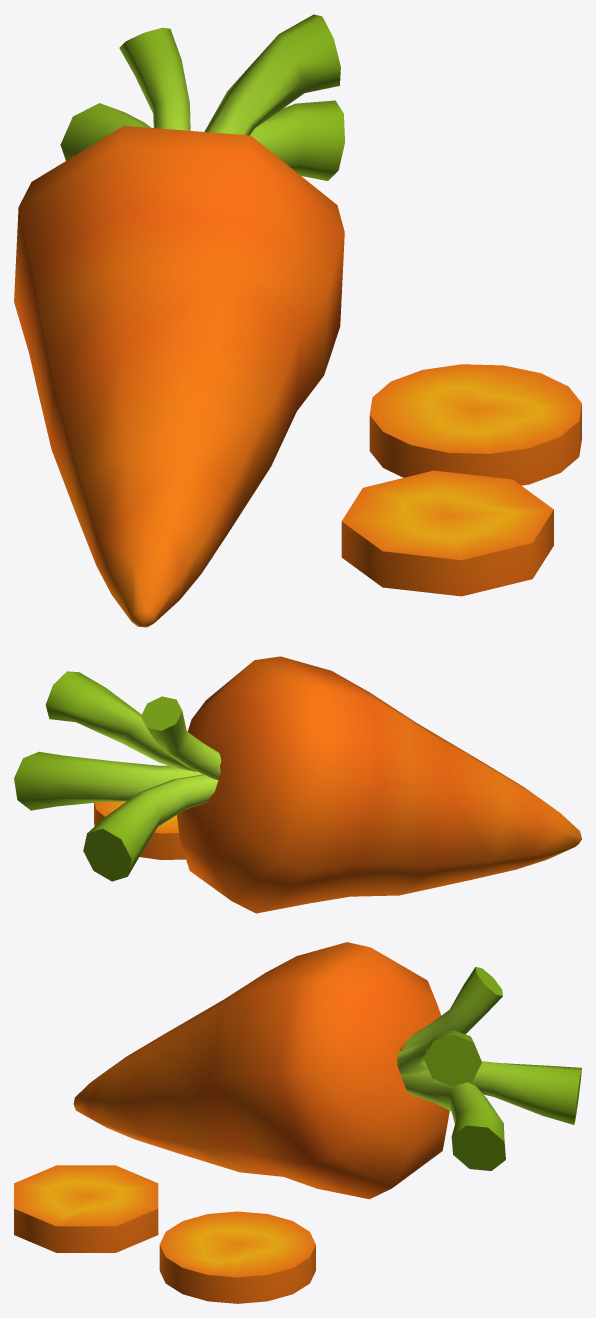
The model's file is carrot.fbx.
3 views of the same model, one above another, from view 1: azimuth 30°, elevation 25°; view 2: azimuth 150°, elevation 25°; view 3: azimuth 270°, elevation 25° (orthographic). The views are drawn at different scales.
Visible parts, largest first — view 1: CarrotBody, CarrotPiece_Low, CarrotPiece, CarrotLeaf; view 2: CarrotBody, CarrotLeaf, CarrotPiece; view 3: CarrotBody, CarrotLeaf, CarrotPiece, CarrotPiece_Low.
Boxes of the visible parts, x1,y1,x2,y2 form: CarrotBody: (14,126,344,627); CarrotPiece_Low: (341,470,553,596); CarrotPiece: (369,364,581,485); CarrotLeaf: (60,14,344,180); CarrotBody: (177,656,581,913); CarrotLeaf: (14,671,221,881); CarrotPiece: (94,801,185,859); CarrotBody: (73,942,449,1199); CarrotLeaf: (397,967,581,1170); CarrotPiece: (159,1211,315,1303); CarrotPiece_Low: (14,1165,158,1252).
Size of the model in its own units: 1.1 by 1.36 by 0.6532.
1 material, 1 textured.
